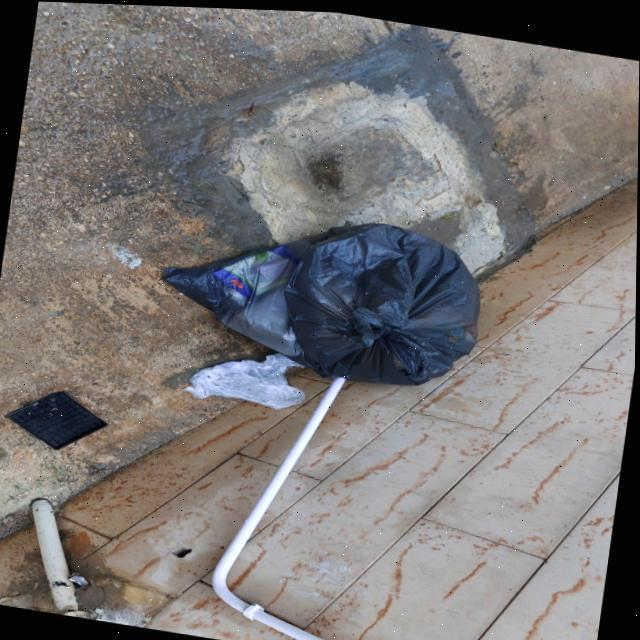Mixed Waste -Black Bag-: (149, 188, 492, 398)
Other: (184, 337, 307, 413)
